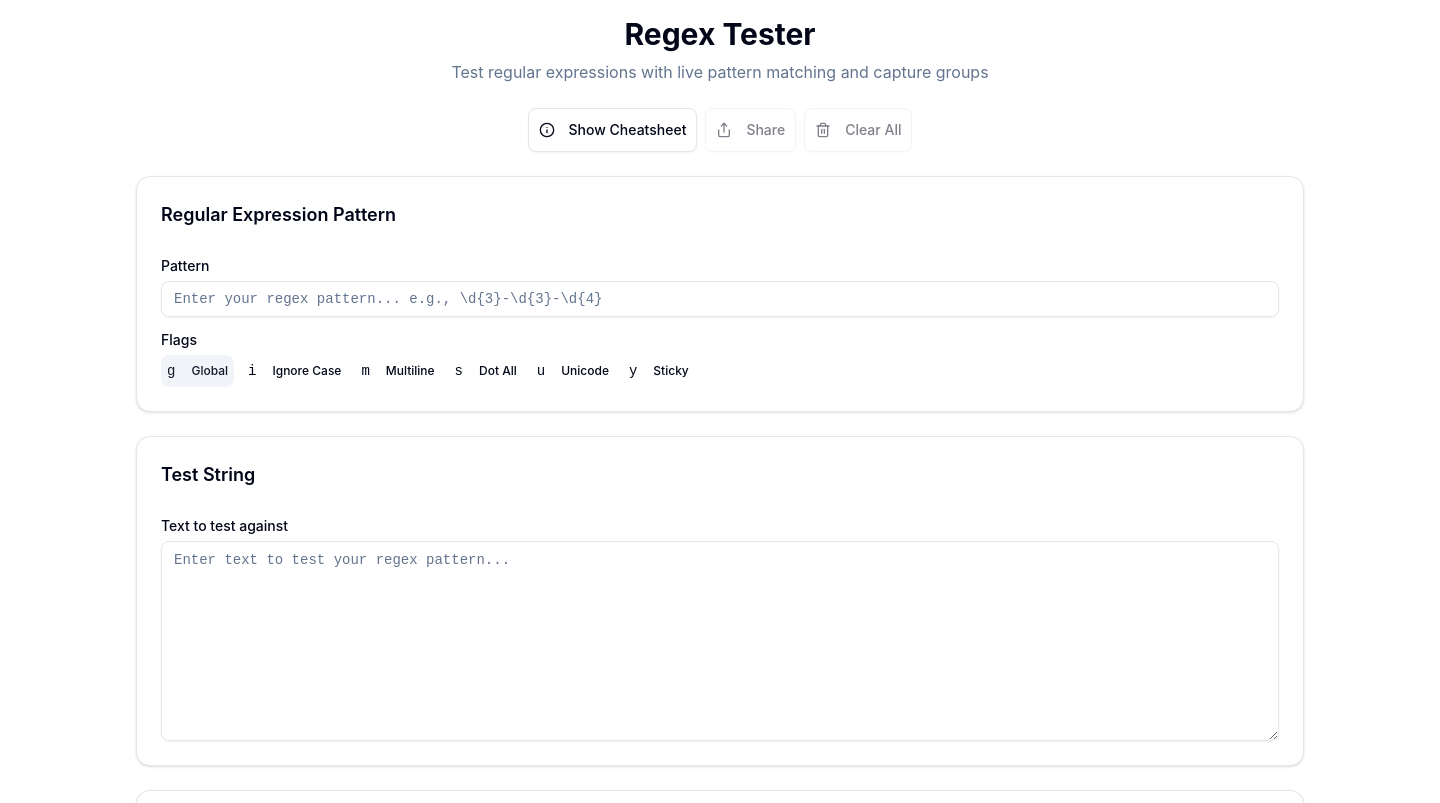
RegexTester › case insensitive flag works correctly
Type "hello" into the field labelled "Pattern" at [720, 299], box left=161, top=281, right=1279, bottom=317
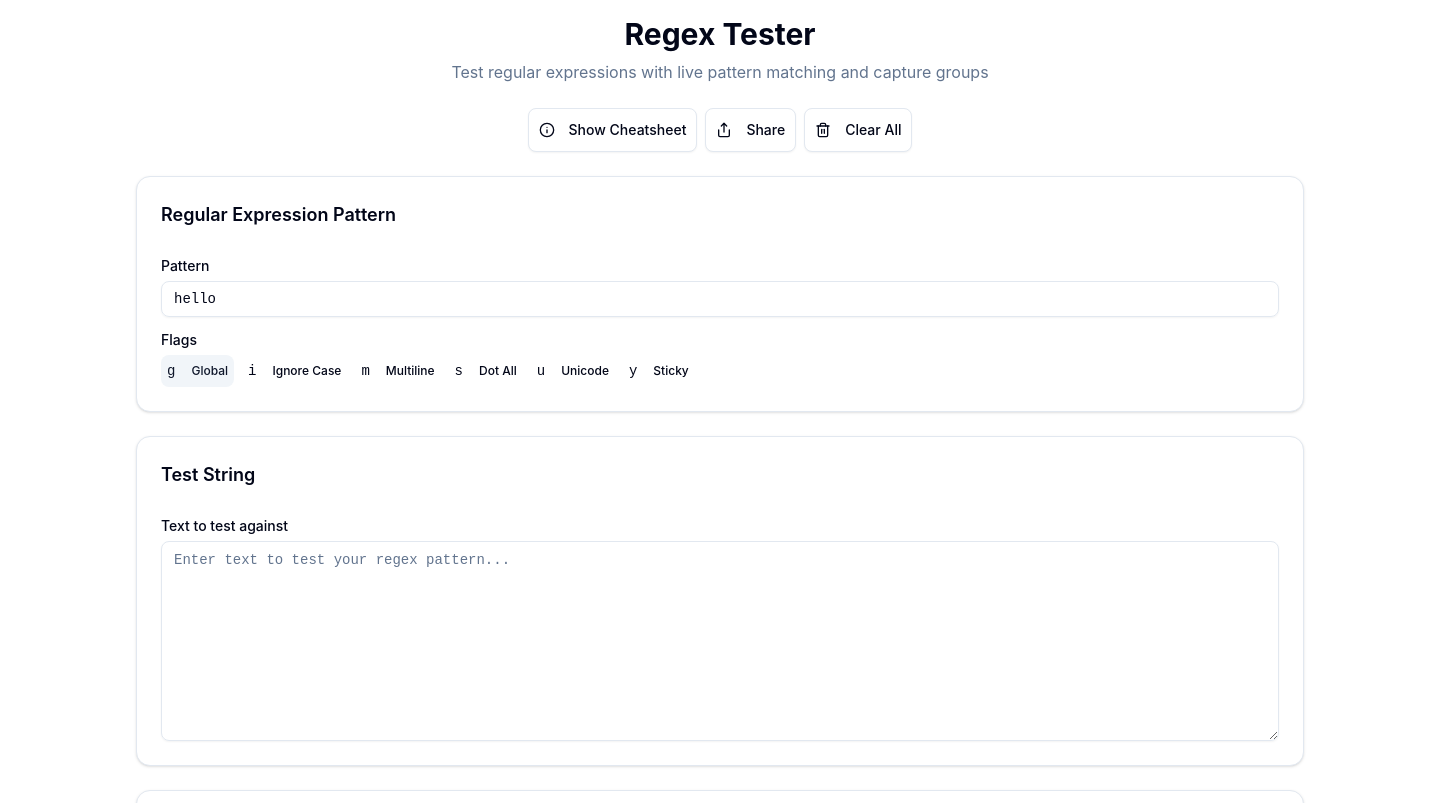
Type "HELLO world" into the text box labelled "Text to test against" at [720, 641], box left=161, top=541, right=1279, bottom=741
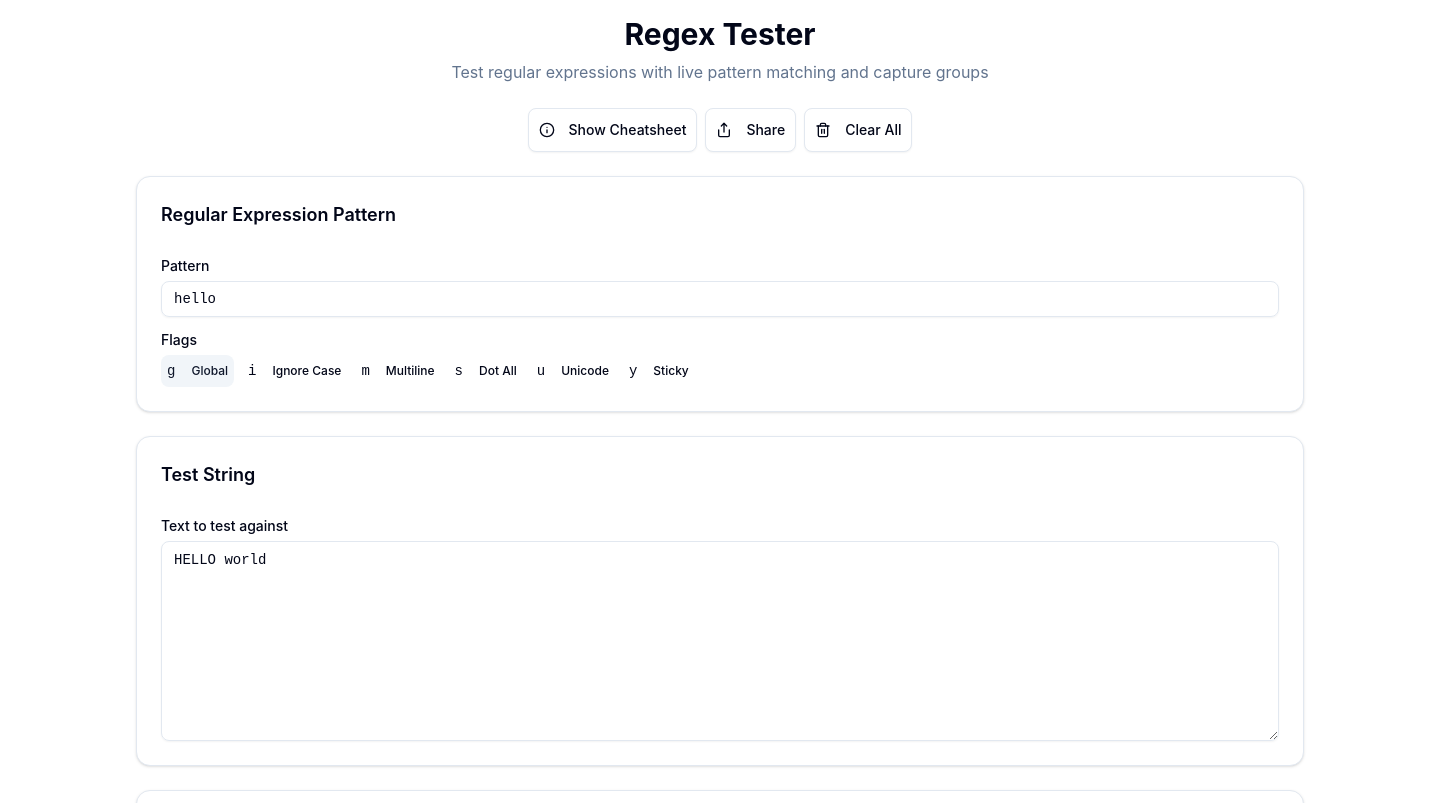
Note: Enable case insensitive flag
Click the button with aria-label "Case insensitive flag (i)" at [295, 371], box left=242, top=355, right=347, bottom=387
(page scrolled)
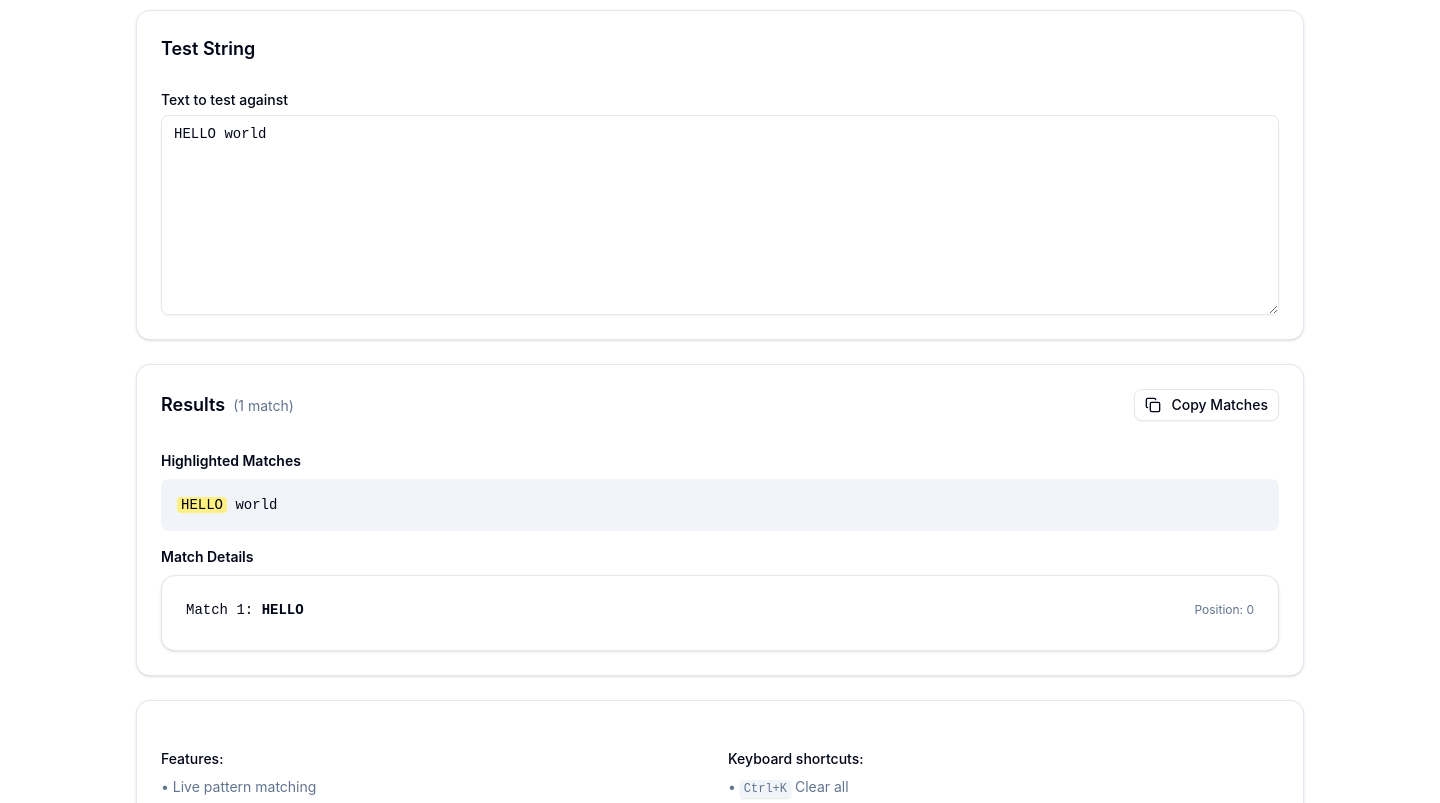
expect the text "(1 match)" is shown: met, box left=233, top=397, right=294, bottom=414
